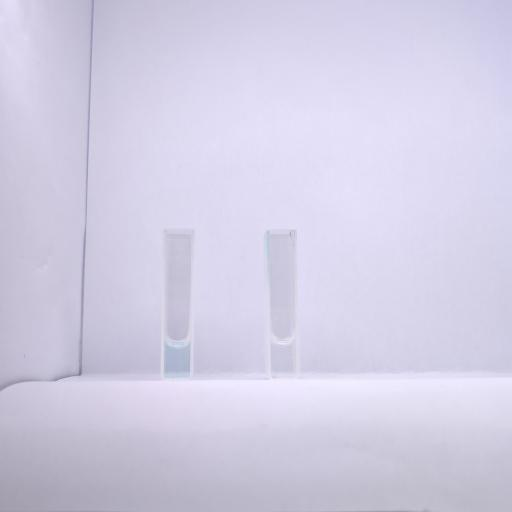cuvette: (159, 226, 196, 382), (264, 228, 300, 382)
liquid: (270, 338, 296, 377), (164, 339, 190, 377)
